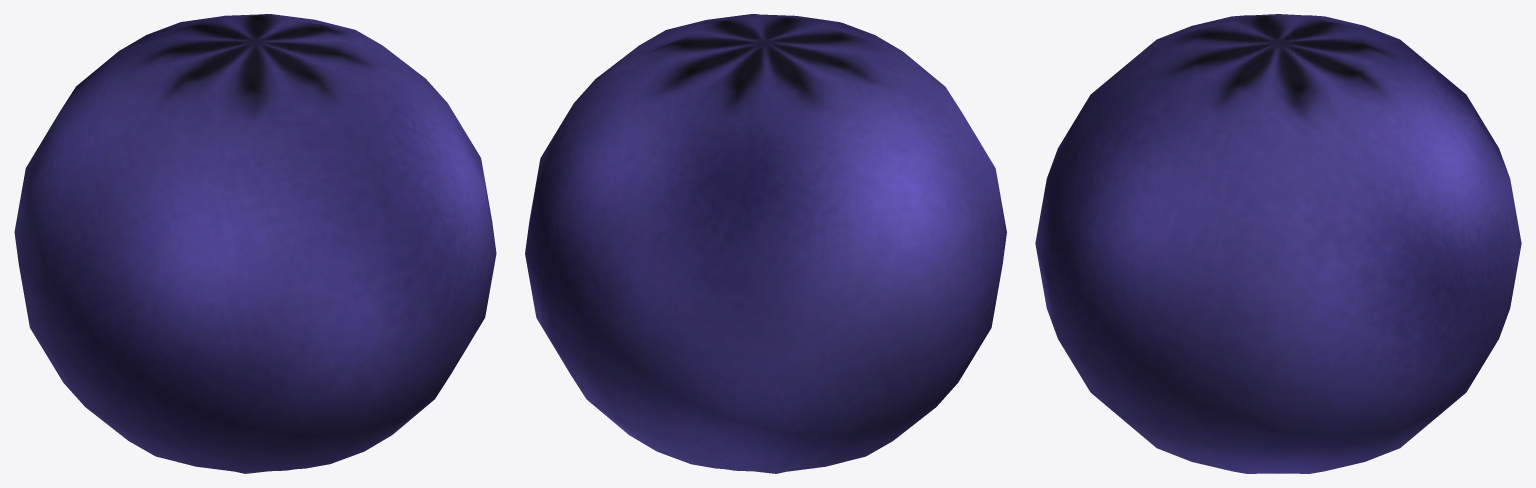
Rendered from blueberry.FBX.
3 views of the same model, side by side, from view 1: azimuth 30°, elevation 25°; view 2: azimuth 150°, elevation 25°; view 3: azimuth 270°, elevation 25° (orthographic).
Parts seen in each view (by area): view 1: blueberry_1; view 2: blueberry_1; view 3: blueberry_1.
Boxes of the visible parts, x1,y1,x2,y2 form: blueberry_1: (14,14,496,473); blueberry_1: (525,14,1006,473); blueberry_1: (1035,14,1521,473).
Bounding box in the file's own units: 55.61 × 51.53 × 55.54.
